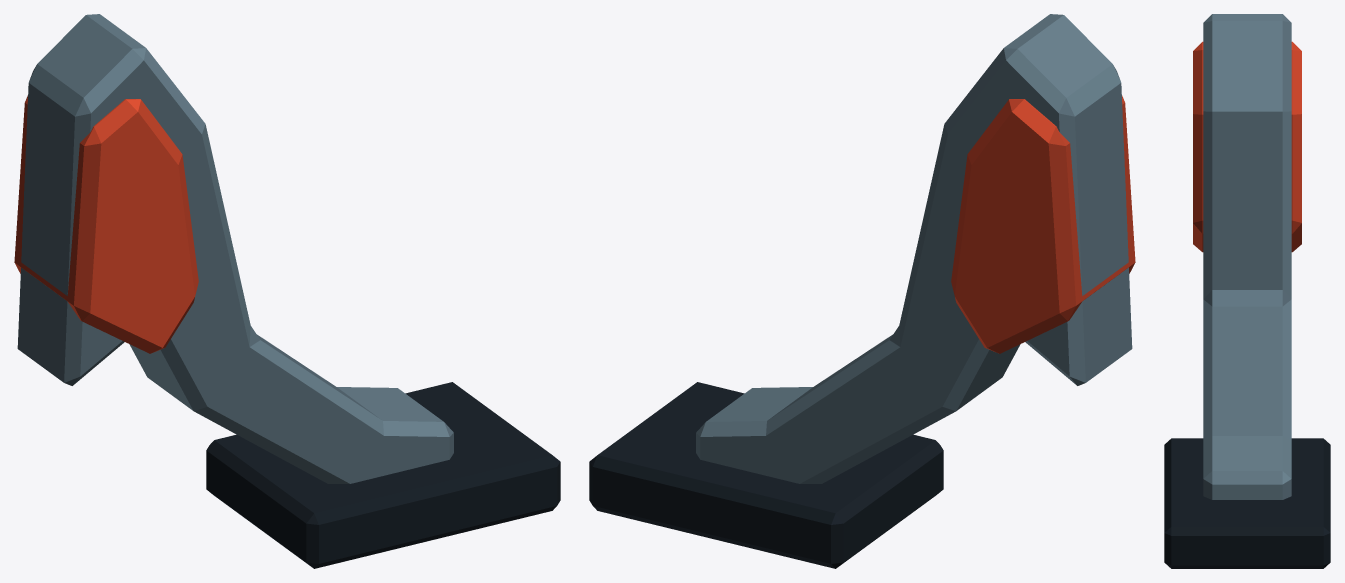
The model's file is ER_OutriggerFoot.fbx.
3 views of the same model, side by side, from view 1: azimuth 30°, elevation 25°; view 2: azimuth 150°, elevation 25°; view 3: azimuth 270°, elevation 25° (orthographic). The views are drawn at different scales.
Visible parts, largest first — view 1: ER_OutriggerFoot; view 2: ER_OutriggerFoot; view 3: ER_OutriggerFoot.
Boxes of the visible parts, x1,y1,x2,y2 form: ER_OutriggerFoot: (14,14,560,568); ER_OutriggerFoot: (589,14,1135,568); ER_OutriggerFoot: (1164,14,1330,568).
Size of the model in its own units: 0.7943 by 0.87 by 0.32.
